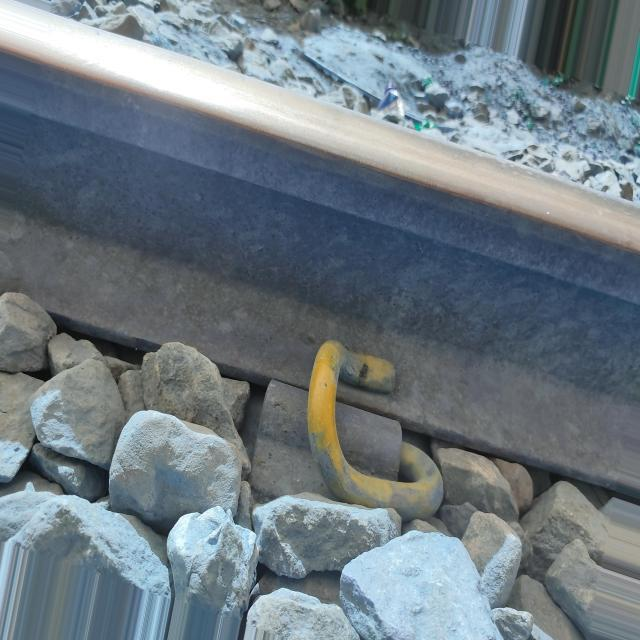Good Fasteners: (249, 341, 442, 520)
